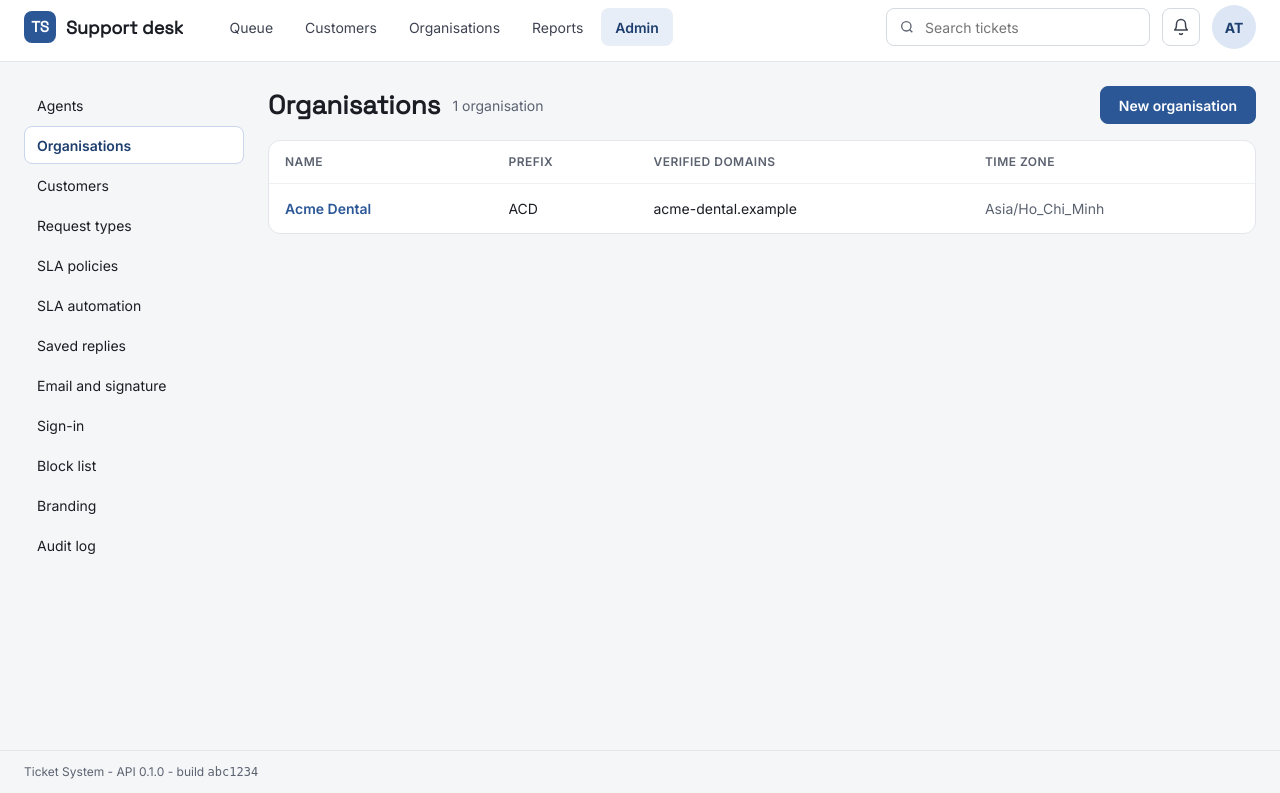
Test: Admin - Organisations › shows a pop-up and keeps the switch when saving fails
This screenshot has width=1280, height=793.
Step 1. Click the button "Acme Dental" → click(328, 208), box x1=285 y1=190 x2=371 y2=228
(page scrolled)
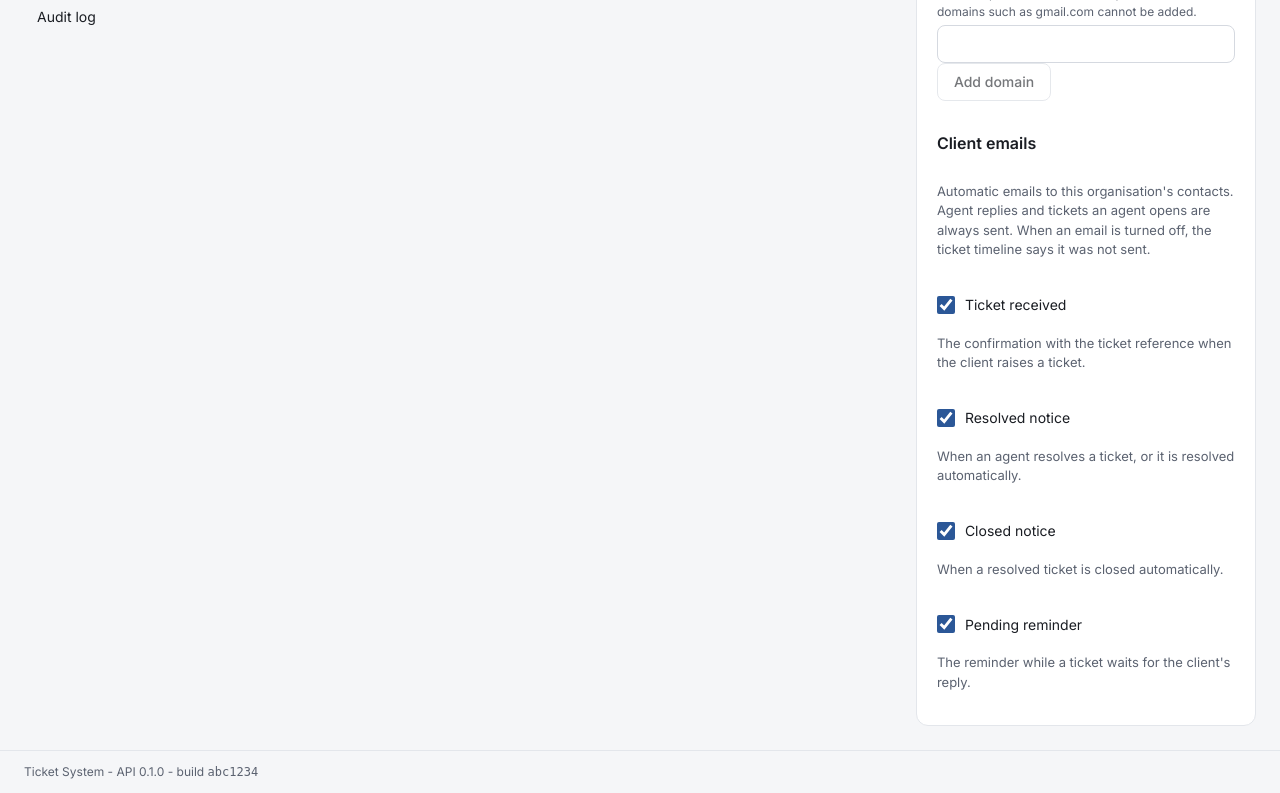
Step 2. Click the checkbox labelled "Closed notice" → click(946, 530), box x1=937 y1=522 x2=955 y2=540
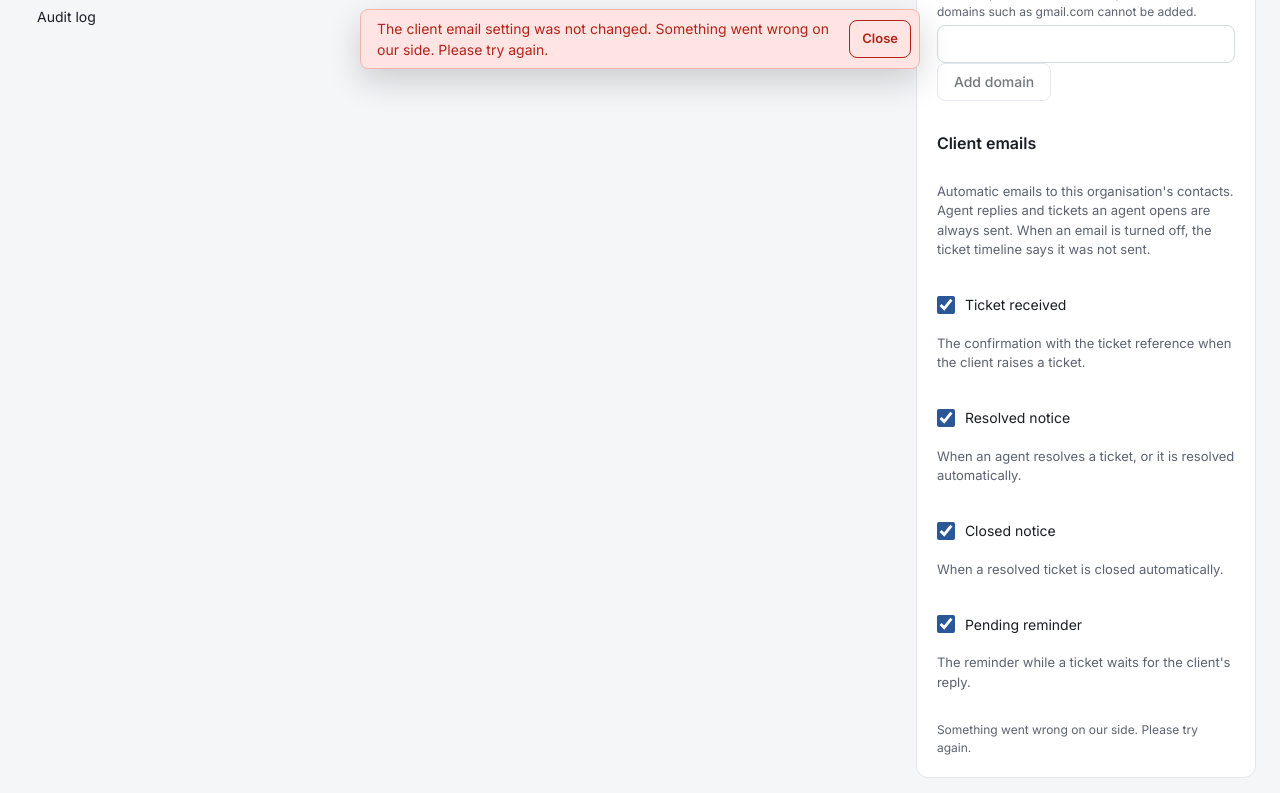
Result: the checkbox labelled "Closed notice" is checked at x1=937 y1=522 x2=955 y2=540
Result: the checkbox labelled "Closed notice" is enabled at x1=937 y1=522 x2=955 y2=540
Result: the text "The client email setting was not changed." is shown at x1=377 y1=20 x2=829 y2=58
